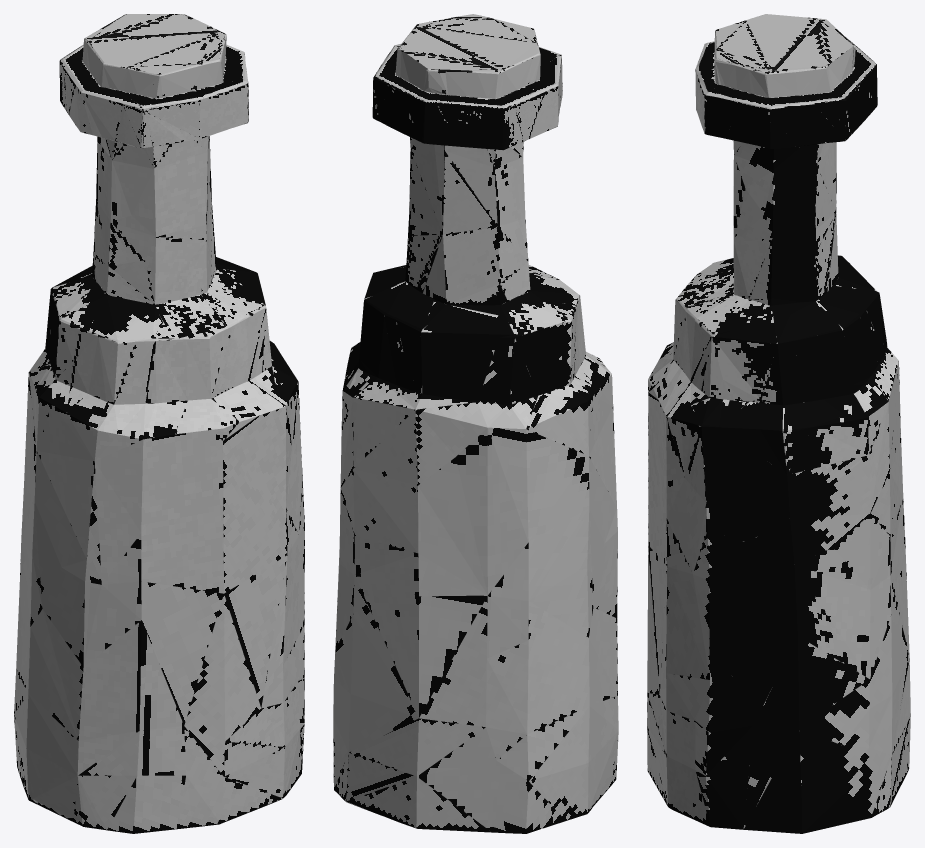
3 renders of one model, left to right at view 1: azimuth 30°, elevation 25°; view 2: azimuth 150°, elevation 25°; view 3: azimuth 270°, elevation 25°, orthographic.
Parts seen in each view (by area): view 1: OBJ0bd; view 2: OBJ0bd; view 3: OBJ0bd.
Part boxes in pixels (x1,y1,x2,y2): OBJ0bd: (14, 14, 304, 833); OBJ0bd: (333, 14, 618, 833); OBJ0bd: (647, 14, 910, 833).
Bounding box in the file's own units: 0.126 × 0.3556 × 0.1161.
Materials: 1 (1 with a texture image).
